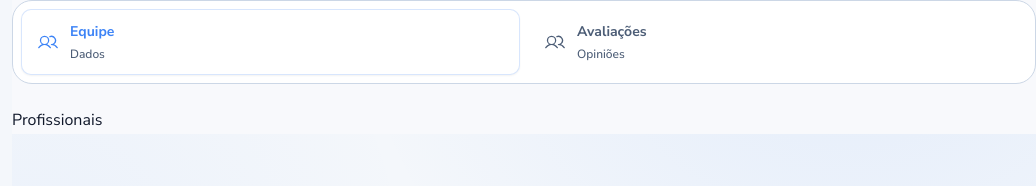
Scenario: Workspace design system › keeps tab selection and panel associations accessible
Step 1. Press the mouse on the tab "Avaliações Opiniões" → (612, 32), box x1=528 y1=9 x2=1027 y2=75
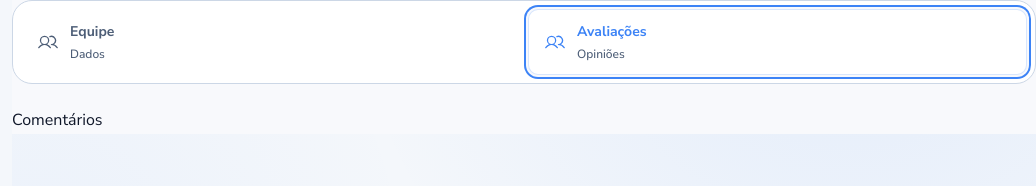
Expected: the panel reads "Comentários", x1=12 y1=109 x2=102 y2=131
